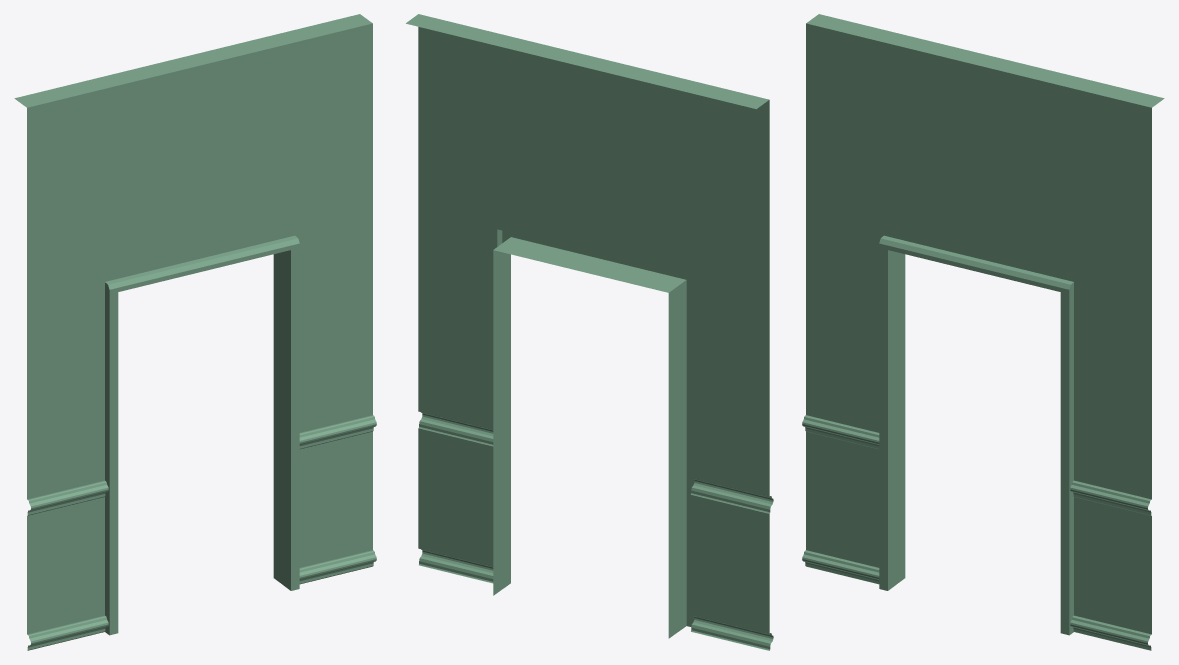
The model's file is BathroomDoorway.fbx.
3 renders of one model, left to right at view 1: azimuth 30°, elevation 25°; view 2: azimuth 150°, elevation 25°; view 3: azimuth 330°, elevation 25°, orthographic.
Visible parts, largest first — view 1: ModDoorway; view 2: ModDoorway; view 3: ModDoorway.
Part boxes in pixels (<box>): ModDoorway: <box>14,14,376,650</box>; ModDoorway: <box>406,14,773,650</box>; ModDoorway: <box>802,14,1164,650</box>.
Size of the model in its own units: 240 by 360 by 21.12.
